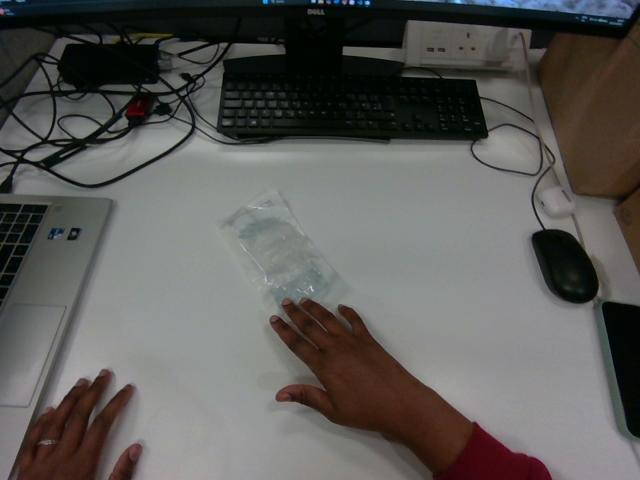gallipot: (219, 190, 334, 304)
